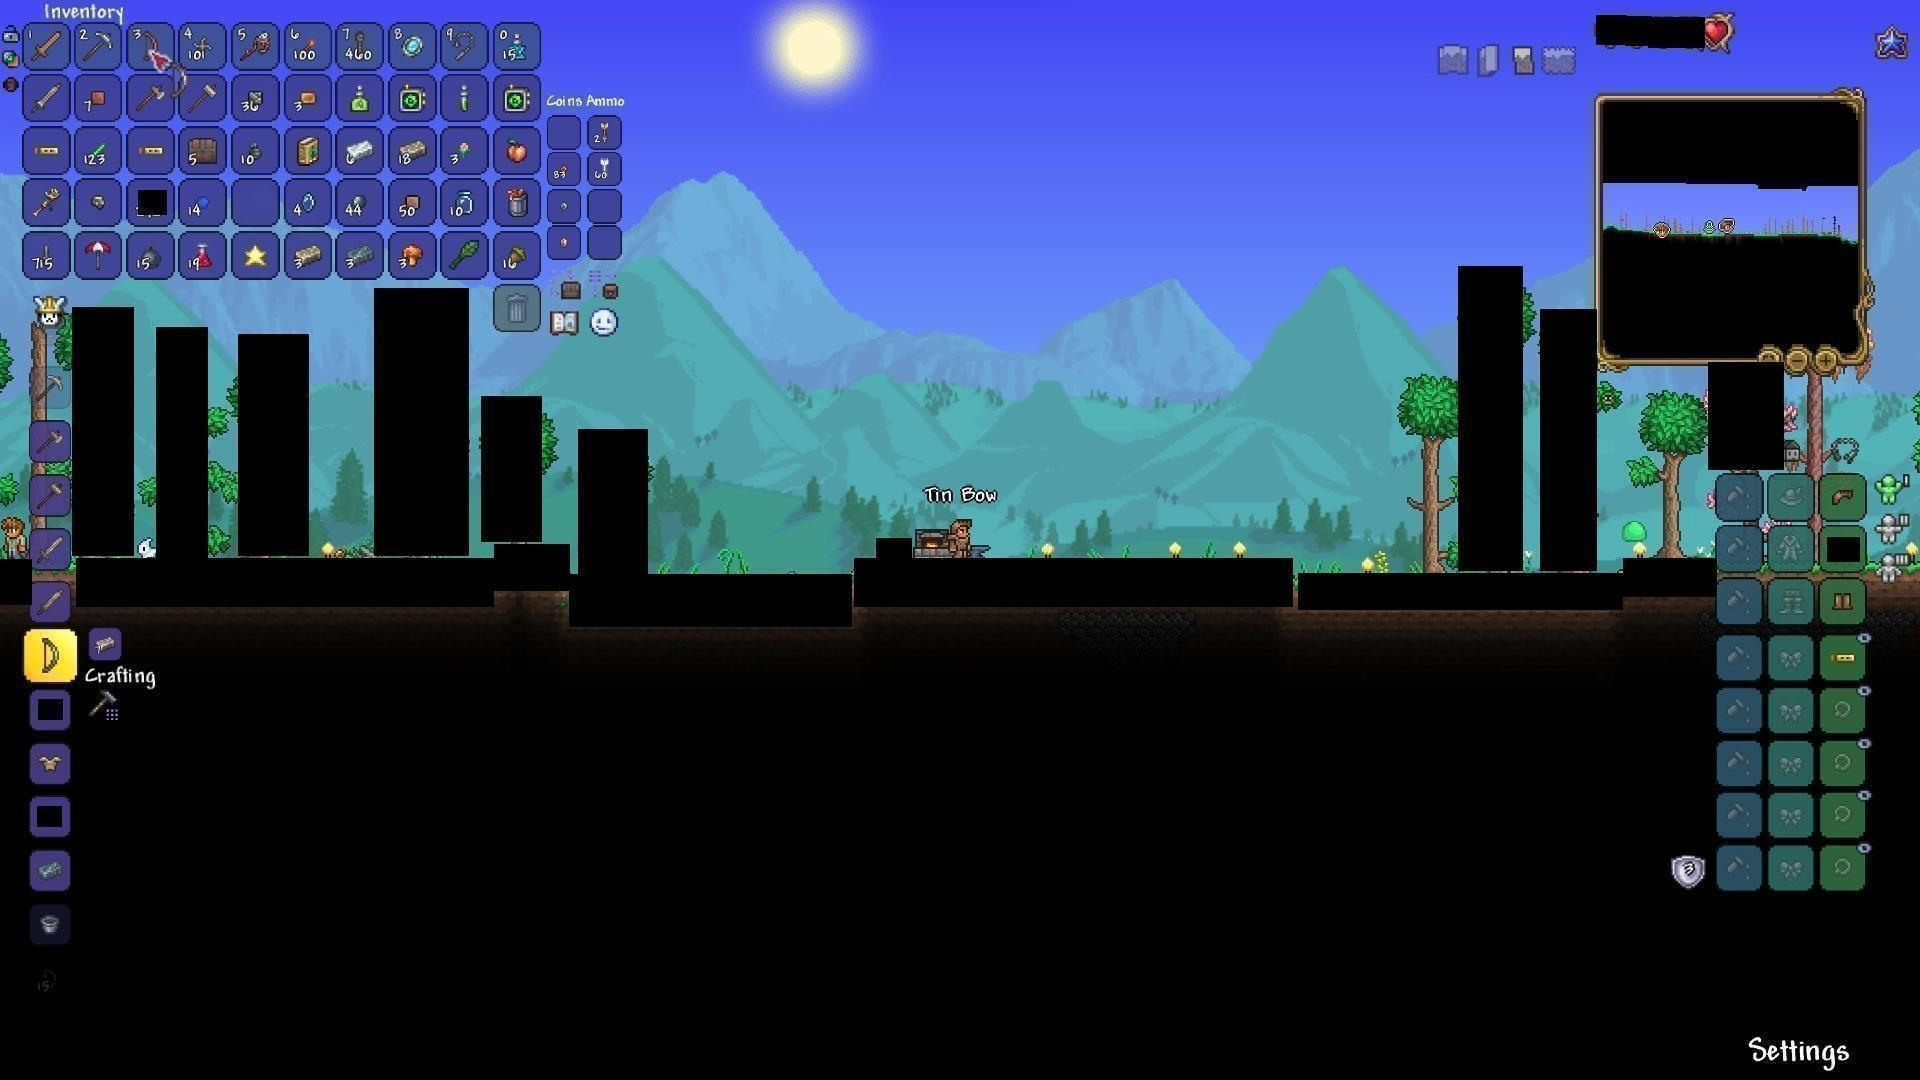breastplate: (37, 753, 63, 773)
heart: (1702, 17, 1731, 47)
helmet: (1829, 487, 1857, 508)
legs: (1830, 591, 1859, 615)
slime: (1625, 520, 1648, 545)
tree: (1396, 364, 1458, 571), (1648, 386, 1702, 556)
